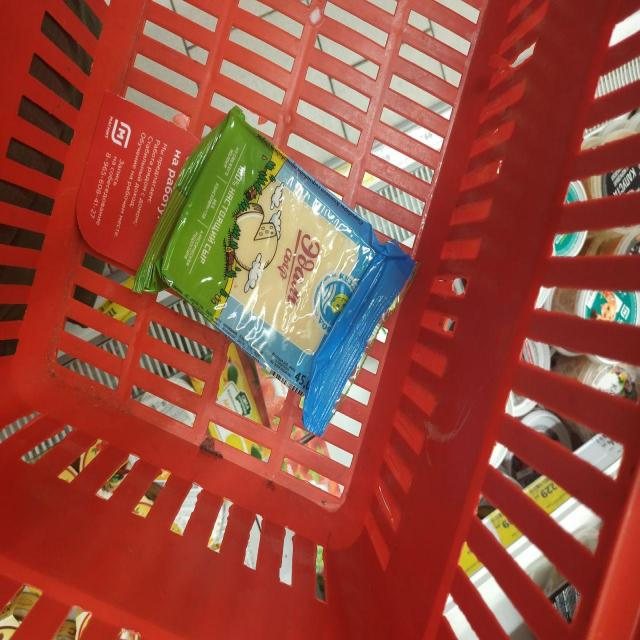cheese: (171, 193, 531, 559)
